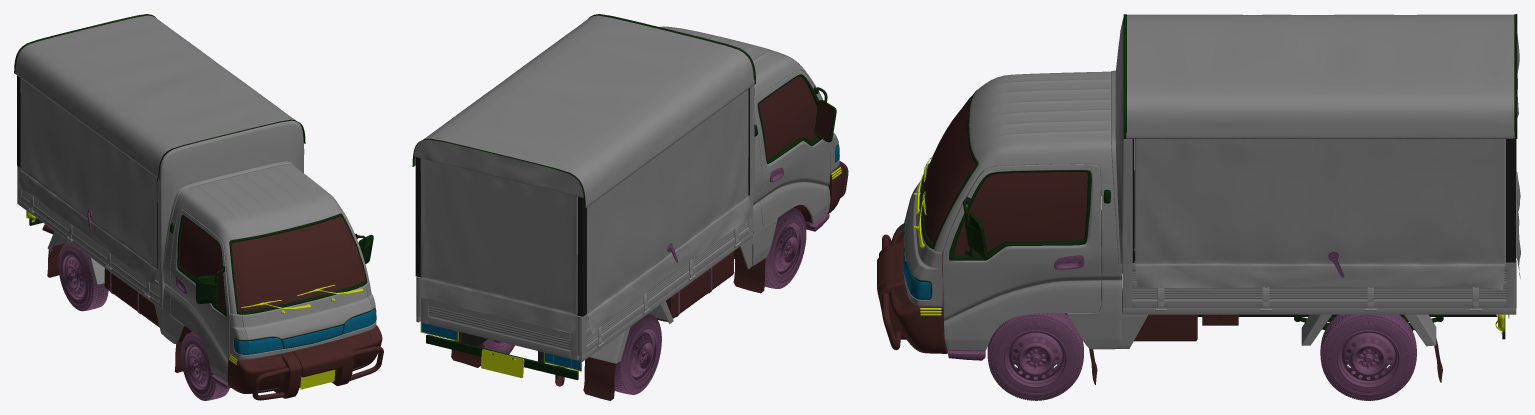
3 renders of one model, left to right at view 1: azimuth 30°, elevation 25°; view 2: azimuth 150°, elevation 25°; view 3: azimuth 270°, elevation 25°, orthographic. The views are drawn at different scales.
Visible parts, largest first — view 1: Truck_a_PongFabric_Mesh, Truck_a_Head_Mesh, Truck_a_HeadBase_Mesh, Truck_a_tire_Mesh, Truck_a_iron_Mesh, Truck_a_TruckBack_Mesh, Truck_a_glass_01_Mesh, Truck_a_lights_Mesh, Truck_a_base_Mesh; view 2: Truck_a_PongFabric_Mesh, Truck_a_TruckBack_Mesh, Truck_a_Head_Mesh, Truck_a_HeadBase_Mesh, Truck_a_tire_Mesh, Truck_a_iron_Mesh, Truck_a_base_Mesh, Truck_a_lights_Mesh, Truck_a_glass_01_Mesh; view 3: Truck_a_PongFabric_Mesh, Truck_a_Head_Mesh, Truck_a_HeadBase_Mesh, Truck_a_tire_Mesh, Truck_a_TruckBack_Mesh, Truck_a_iron_Mesh, Truck_a_base_Mesh, Truck_a_lights_Mesh, Truck_a_glass_01_Mesh.
Part boxes in pixels (box(x1,y1,x2,y2)): Truck_a_PongFabric_Mesh: box(15, 15, 304, 284); Truck_a_Head_Mesh: box(162, 164, 376, 383); Truck_a_HeadBase_Mesh: box(42, 216, 383, 400); Truck_a_tire_Mesh: box(58, 210, 230, 400); Truck_a_iron_Mesh: box(14, 14, 375, 354); Truck_a_TruckBack_Mesh: box(17, 166, 164, 335); Truck_a_glass_01_Mesh: box(234, 307, 376, 354); Truck_a_lights_Mesh: box(26, 210, 362, 389); Truck_a_base_Mesh: box(17, 75, 157, 268); Truck_a_PongFabric_Mesh: box(413, 15, 754, 334); Truck_a_TruckBack_Mesh: box(416, 194, 753, 363); Truck_a_Head_Mesh: box(660, 26, 839, 265); Truck_a_HeadBase_Mesh: box(451, 76, 848, 400); Truck_a_tire_Mesh: box(482, 167, 829, 394); Truck_a_iron_Mesh: box(412, 14, 838, 380); Truck_a_base_Mesh: box(415, 88, 749, 363); Truck_a_lights_Mesh: box(420, 167, 841, 377); Truck_a_glass_01_Mesh: box(421, 144, 839, 370); Truck_a_PongFabric_Mesh: box(1111, 14, 1520, 289); Truck_a_Head_Mesh: box(903, 71, 1121, 350); Truck_a_HeadBase_Mesh: box(877, 97, 1442, 384); Truck_a_tire_Mesh: box(947, 251, 1416, 400); Truck_a_TruckBack_Mesh: box(1119, 170, 1516, 348); Truck_a_iron_Mesh: box(903, 14, 1517, 339); Truck_a_base_Mesh: box(1122, 139, 1515, 316); Truck_a_lights_Mesh: box(913, 157, 1509, 333); Truck_a_glass_01_Mesh: box(903, 218, 930, 299).
Size of the model in its own units: 196 by 239 by 455.
